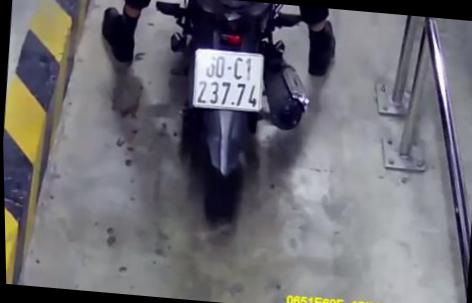LP: (189, 44, 267, 113)
